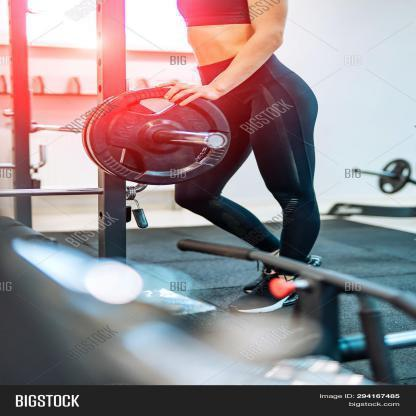barbell: (80, 85, 234, 186)
